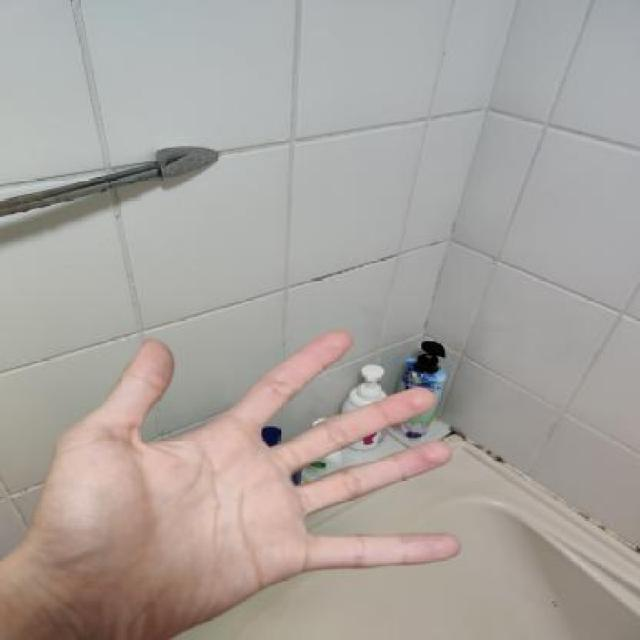bare_hand: (19, 324, 472, 636)
